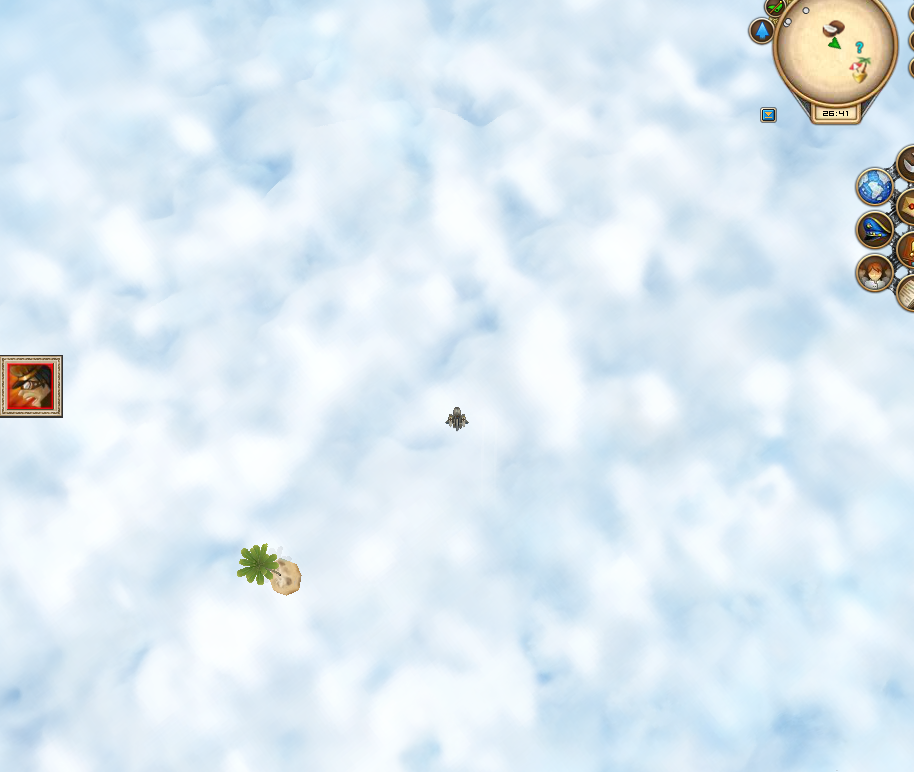palm: (233, 539, 305, 599)
